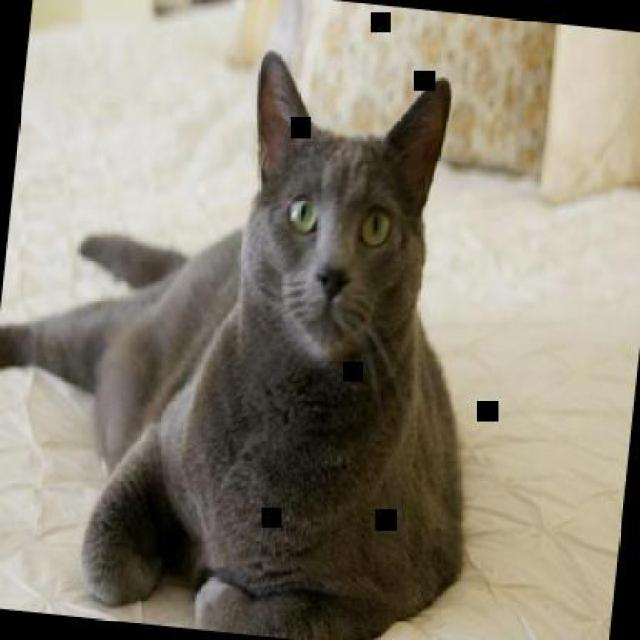cat: (0, 23, 511, 639)
